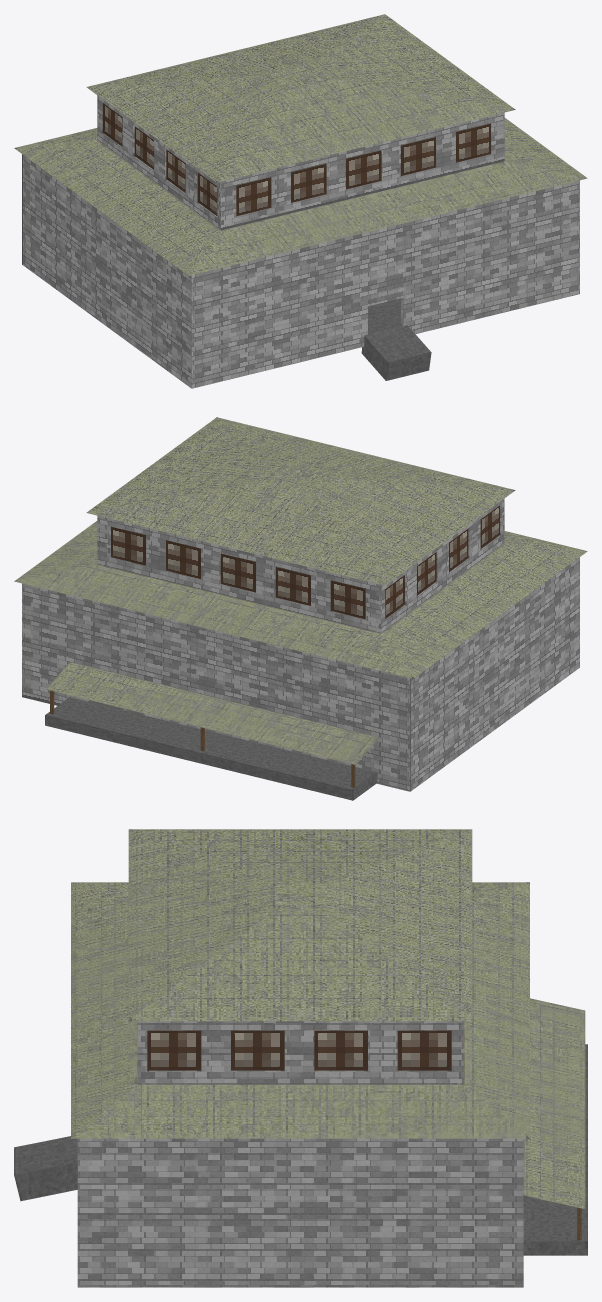
Rendered from warehouse.glb.
3 views of the same model, one above another, from view 1: azimuth 30°, elevation 25°; view 2: azimuth 150°, elevation 25°; view 3: azimuth 270°, elevation 25° (orthographic). The views are drawn at different scales.
Parts seen in each view (by area): view 1: Cube.001, Cube.006, Window.017, Window.015, Window.016, Window.013, Window.014, Window.008, Window.007, Window.006, Window.005; view 2: Cube.001, Cube.006, OutdoorCovering, Window.010, Window.012, Window.011, Window, Window.009, Window.005, Window.008, Window.007, Window.006; view 3: Cube.001, OutdoorCovering, Cube.006, Window.002, Window.004, Window.001, Window.003.
Part boxes in pixels (x1,y1,x2,y2): Cube.001: (14,14,587,388); Cube.006: (361,298,431,380); Window.017: (236,177,271,216); Window.015: (346,150,381,189); Window.016: (291,164,326,202); Window.013: (456,123,490,162); Window.014: (401,137,435,175); Window.008: (102,103,122,146); Window.007: (134,126,153,169); Window.006: (166,149,185,192); Window.005: (198,173,217,215); Cube.001: (14,417,587,791); Cube.006: (45,697,377,800); OutdoorCovering: (46,662,378,764); Window.010: (220,553,255,592); Window.012: (330,580,365,619); Window.011: (275,567,310,605); Window: (111,526,145,565); Window.009: (166,540,200,578); Window.005: (480,505,499,548); Window.008: (385,575,404,618); Window.007: (417,552,436,595); Window.006: (449,529,468,571); Cube.001: (71,829,529,1287); OutdoorCovering: (523,998,585,1208); Cube.006: (14,1044,587,1255); Window.002: (147,1030,201,1070); Window.004: (397,1030,451,1070); Window.001: (231,1030,284,1070); Window.003: (314,1030,367,1070).
Size of the model in its own units: 114 by 60.52 by 108.
Materials: 7 (7 with a texture image).
